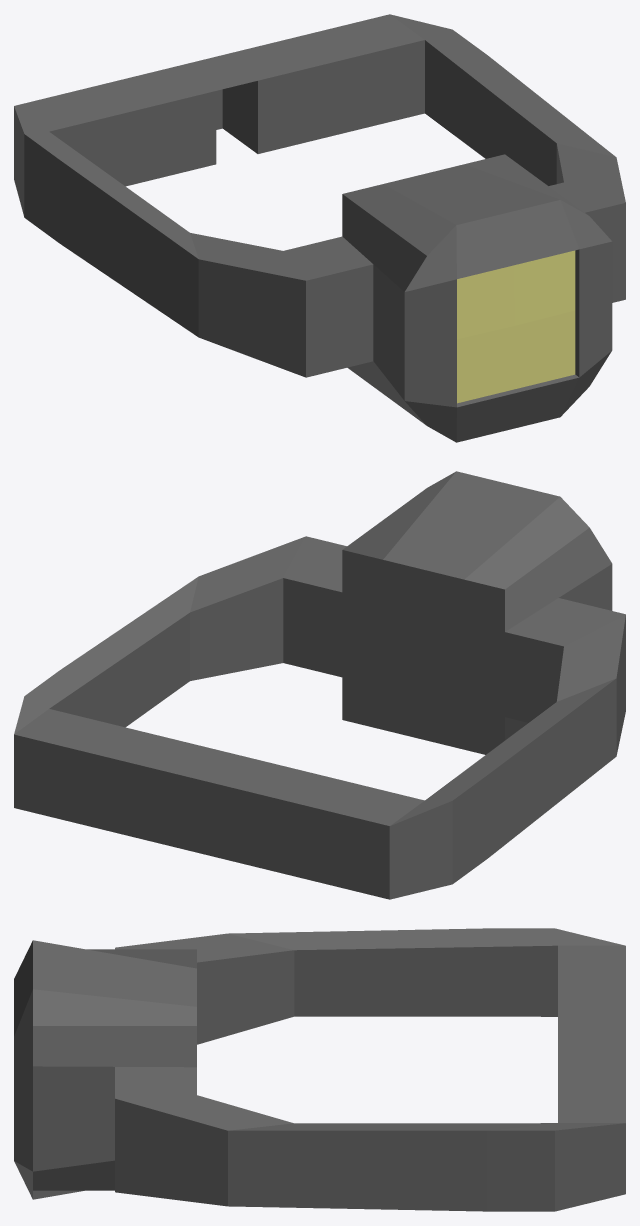
File: Headlamp.fbx
3 views of the same model, one above another, from view 1: azimuth 30°, elevation 25°; view 2: azimuth 150°, elevation 25°; view 3: azimuth 270°, elevation 25° (orthographic). The views are drawn at different scales.
Parts seen in each view (by area): view 1: Cube; view 2: Cube; view 3: Cube.
Part boxes in pixels (bbox=[...]): Cube: bbox=[14, 14, 625, 442]; Cube: bbox=[14, 471, 625, 899]; Cube: bbox=[14, 928, 625, 1211].
Bounding box in the file's own units: 129 × 62.39 × 164.
